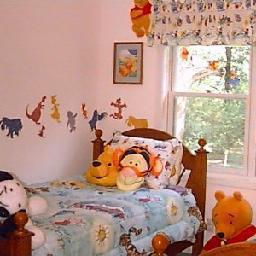Cama: (3, 146, 200, 253)
Ventana: (176, 30, 251, 172)
